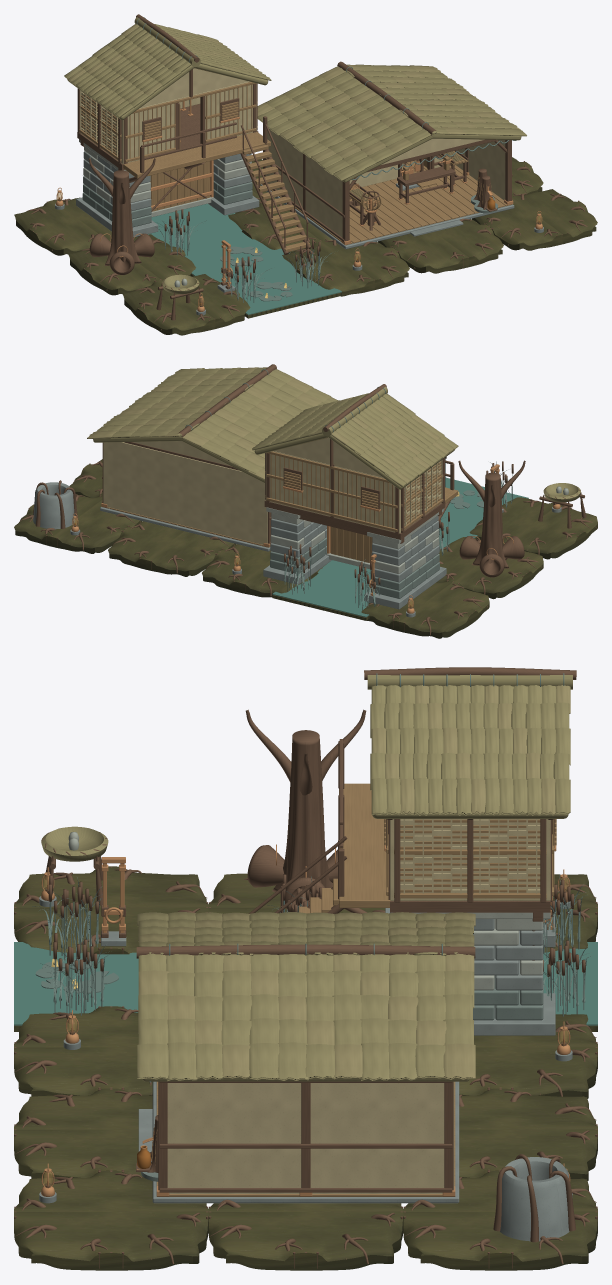
File: bellroot-fen-floodward-marches-floodward-807e93a4-starter-scene__32942.glb
The picture shows the model from 3 angles, top to bottom: view 1: azimuth 30°, elevation 25°; view 2: azimuth 150°, elevation 25°; view 3: azimuth 270°, elevation 25°; orthographic projection. The views are drawn at different scales.
Parts seen in each view (by area): view 1: 013-reed-market-exchange/5, 012-flood-gatehouse/4, 012-flood-gatehouse/7, 013-reed-market-exchange/4, 012-flood-gatehouse/3, 012-flood-gatehouse/5, 013-reed-market-exchange/1, 013-reed-market-exchange/6, 011-living-levee-rootbank/0, 008-living-levee-rootbank/0, 009-living-levee-rootbank/0, 010-living-levee-rootbank/0 (+20 smaller); view 2: 013-reed-market-exchange/4, 013-reed-market-exchange/5, 012-flood-gatehouse/7, 012-flood-gatehouse/5, 012-flood-gatehouse/4, 012-flood-gatehouse/0, 002-living-levee-rootbank/0, 000-living-levee-rootbank/0, 008-living-levee-rootbank/0, 013-reed-market-exchange/6, 012-flood-gatehouse/3, 052-ceremonial-bellroot-tree/0 (+19 smaller); view 3: 013-reed-market-exchange/5, 013-reed-market-exchange/4, 012-flood-gatehouse/7, 011-living-levee-rootbank/0, 013-reed-market-exchange/6, 012-flood-gatehouse/4, 007-living-levee-rootbank/0, 003-living-levee-rootbank/0, 013-reed-market-exchange/2, 002-living-levee-rootbank/0, 010-living-levee-rootbank/0, 009-living-levee-rootbank/0 (+26 smaller).
Boxes of the visible parts, left/top/right/bottom form: 013-reed-market-exchange/5: left=257, top=64, right=526, bottom=182; 012-flood-gatehouse/4: left=79, top=68, right=309, bottom=251; 012-flood-gatehouse/7: left=64, top=17, right=271, bottom=119; 013-reed-market-exchange/4: left=266, top=129, right=505, bottom=237; 012-flood-gatehouse/3: left=77, top=14, right=311, bottom=254; 012-flood-gatehouse/5: left=80, top=68, right=256, bottom=163; 013-reed-market-exchange/1: left=270, top=157, right=512, bottom=245; 013-reed-market-exchange/6: left=257, top=64, right=501, bottom=162; 011-living-levee-rootbank/0: left=472, top=189, right=597, bottom=250; 008-living-levee-rootbank/0: left=122, top=274, right=250, bottom=335; 009-living-levee-rootbank/0: left=282, top=240, right=409, bottom=296; 010-living-levee-rootbank/0: left=378, top=219, right=503, bottom=273; 013-reed-market-exchange/4: left=103, top=441, right=267, bottom=544; 013-reed-market-exchange/5: left=93, top=367, right=338, bottom=482; 012-flood-gatehouse/7: left=252, top=386, right=458, bottom=489; 012-flood-gatehouse/5: left=265, top=437, right=442, bottom=533; 012-flood-gatehouse/4: left=265, top=437, right=458, bottom=562; 012-flood-gatehouse/0: left=263, top=516, right=446, bottom=609; 002-living-levee-rootbank/0: left=108, top=521, right=236, bottom=576; 000-living-levee-rootbank/0: left=361, top=581, right=489, bottom=638; 008-living-levee-rootbank/0: left=469, top=497, right=597, bottom=559; 013-reed-market-exchange/6: left=87, top=367, right=322, bottom=480; 012-flood-gatehouse/3: left=264, top=384, right=454, bottom=543; 052-ceremonial-bellroot-tree/0: left=458, top=460, right=525, bottom=577; 013-reed-market-exchange/5: left=137, top=912, right=474, bottom=1081; 013-reed-market-exchange/4: left=167, top=1082, right=454, bottom=1193; 012-flood-gatehouse/7: left=367, top=675, right=572, bottom=818; 011-living-levee-rootbank/0: left=14, top=1170, right=208, bottom=1270; 013-reed-market-exchange/6: left=138, top=912, right=475, bottom=1079; 012-flood-gatehouse/4: left=298, top=783, right=556, bottom=913; 007-living-levee-rootbank/0: left=208, top=1203, right=403, bottom=1270; 003-living-levee-rootbank/0: left=403, top=1170, right=597, bottom=1270; 013-reed-market-exchange/2: left=136, top=944, right=475, bottom=1192; 002-living-levee-rootbank/0: left=459, top=1088, right=597, bottom=1180; 010-living-levee-rootbank/0: left=14, top=1088, right=152, bottom=1178; 009-living-levee-rootbank/0: left=14, top=1006, right=152, bottom=1096.
Bounding box in the file's own units: 18.8 × 7.42 × 12.
Materials: 16 (9 with a texture image).
